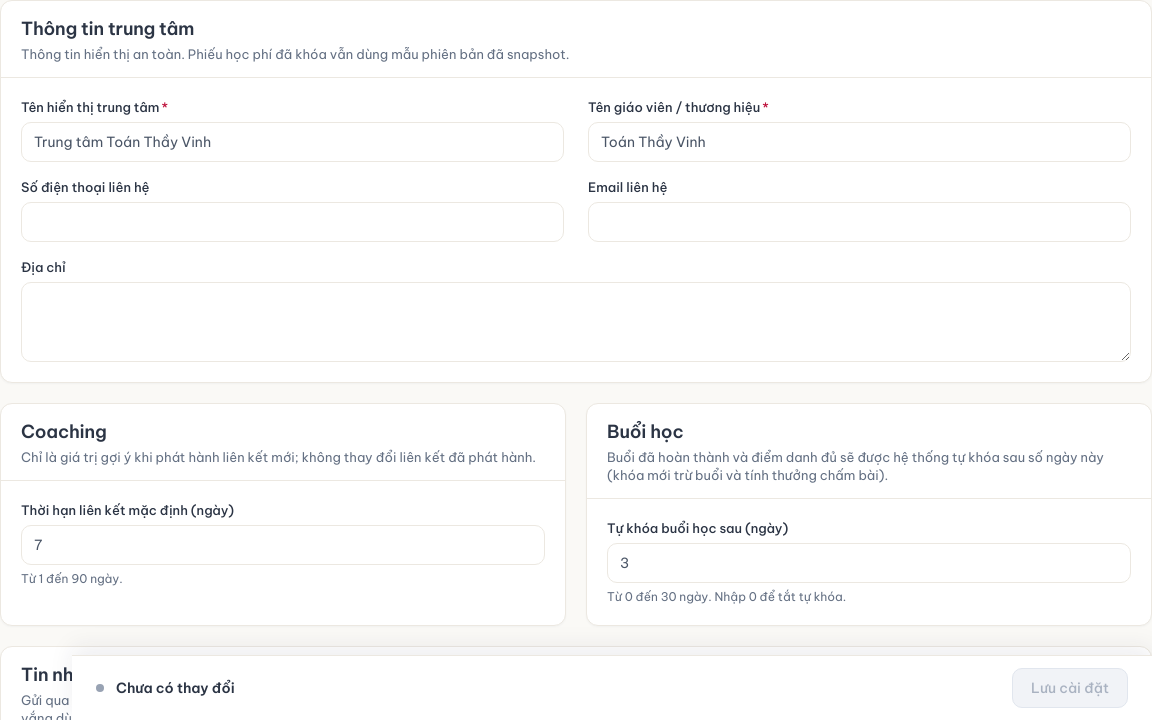
Test: SystemSettingsForm save bar › keeps typed values and shows the error in the bar when saving fails
This screenshot has width=1152, height=720.
Replace the text in the number field labelled "Tự khóa buổi học sau (ngày)" with "5" at (869, 563), box [607,543,1131,583]
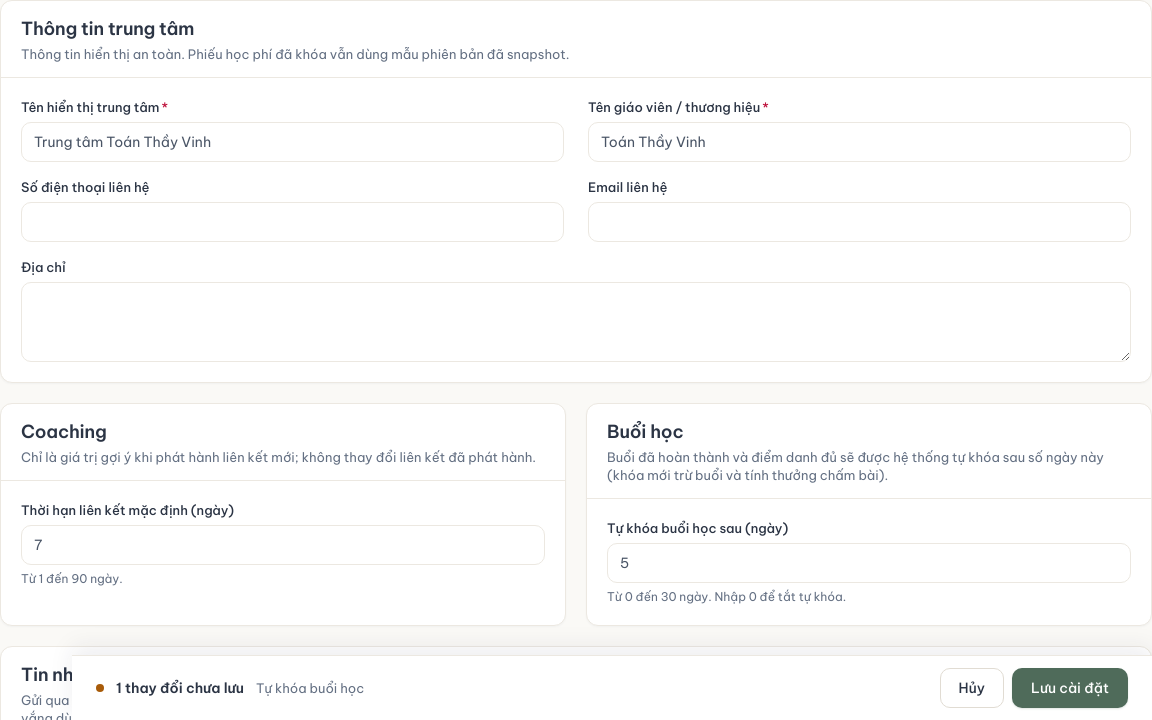
Now the element named "Thanh lưu thay đổi" shows "1 thay đổi chưa lưu", box [116,679,244,697]
Click the button "Lưu cài đặt" at (1070, 688), box [1012,668,1128,708]
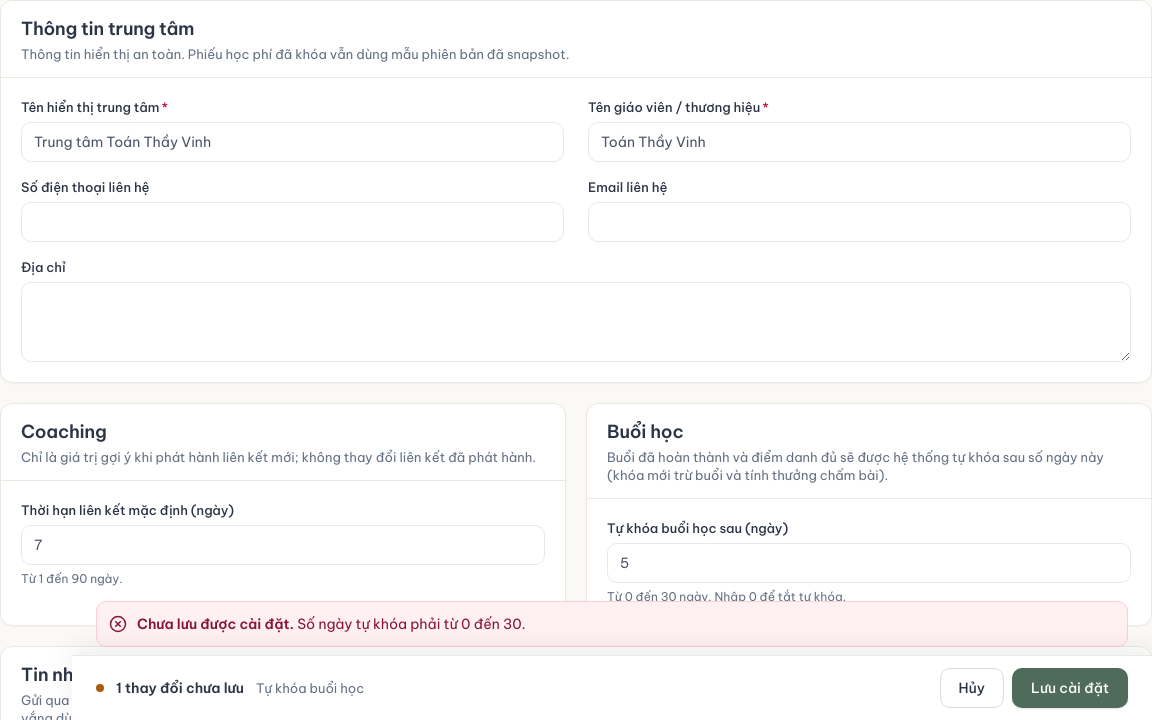
Expected: the message does not show "Không thể kết nối hệ thống cài đặt.", [96,601,1128,647]
Now the element named "Thanh lưu thay đổi" shows "1 thay đổi chưa lưu", box [116,679,244,697]
Now the message reads "Chưa lưu được cài đặt. Số ngày tự khóa phải từ 0 đến 30.", box [96,601,1128,647]
